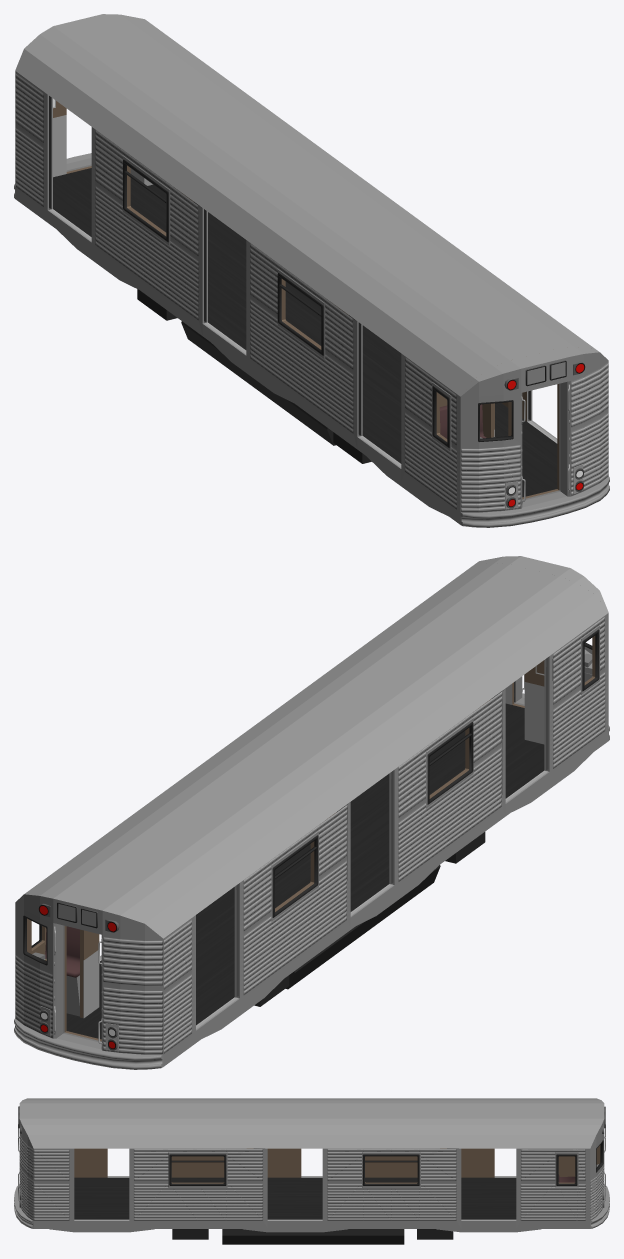
File: SW_VEH_Train_MainBody.fbx
The picture shows the model from 3 angles, top to bottom: view 1: azimuth 30°, elevation 25°; view 2: azimuth 150°, elevation 25°; view 3: azimuth 270°, elevation 25°; orthographic projection. The views are drawn at different scales.
Parts seen in each view (by area): view 1: SW_VEH_Train_MainBody; view 2: SW_VEH_Train_MainBody; view 3: SW_VEH_Train_MainBody.
Boxes of the visible parts, <box> form: SW_VEH_Train_MainBody: <box>14,14,609,527</box>; SW_VEH_Train_MainBody: <box>14,556,609,1069</box>; SW_VEH_Train_MainBody: <box>14,1098,609,1244</box>.
Bounding box in the file's own units: 2.66 × 3.19 × 14.55.
